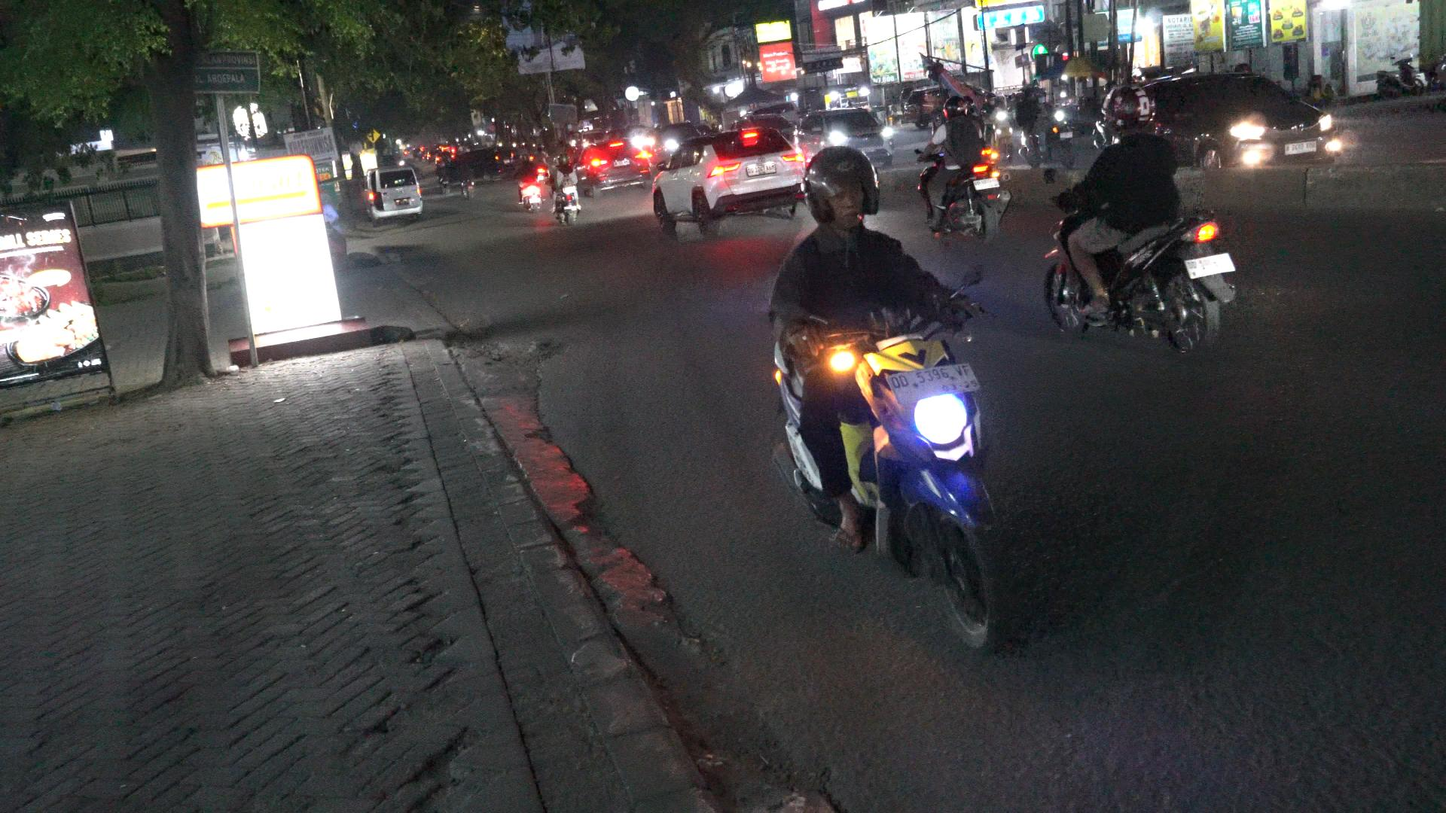number-plate: (883, 359, 989, 402)
